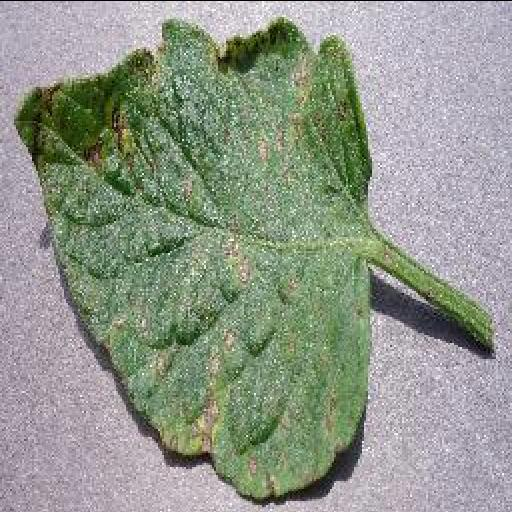disease_tomato: (13, 14, 375, 502)
